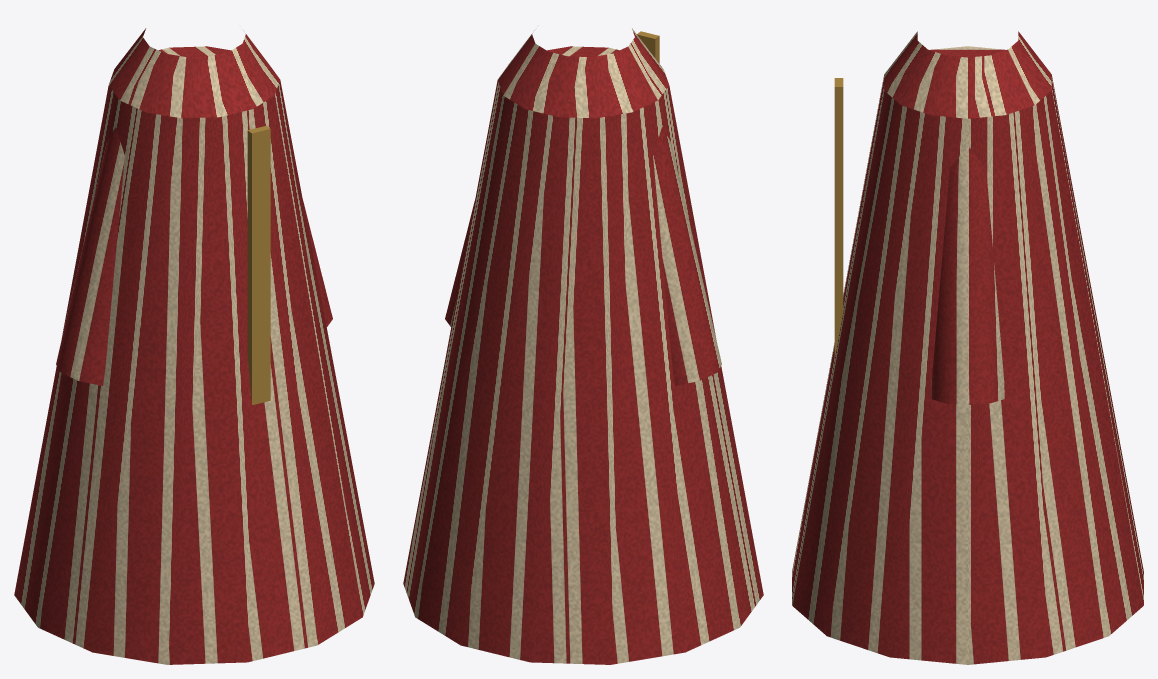
File: kaftan.glb
3 views of the same model, side by side, from view 1: azimuth 30°, elevation 25°; view 2: azimuth 150°, elevation 25°; view 3: azimuth 270°, elevation 25° (orthographic).
Visible parts, largest first — view 1: object 1, cyl (×2), object 2; view 2: object 1, cyl (×2); view 3: object 1, cyl, object 2.
Part boxes in pixels (x1,y1,x2,y2): object 1: [14, 28, 374, 664]; cyl (×2): [56, 127, 332, 385]; object 2: [247, 126, 270, 405]; object 1: [403, 28, 763, 664]; cyl (×2): [445, 127, 721, 385]; object 1: [792, 31, 1143, 664]; cyl: [931, 146, 1004, 404]; object 2: [834, 78, 843, 357].
Size of the model in its own units: 0.84 by 1.42 by 0.819.
Materials: 2 (1 with a texture image).
